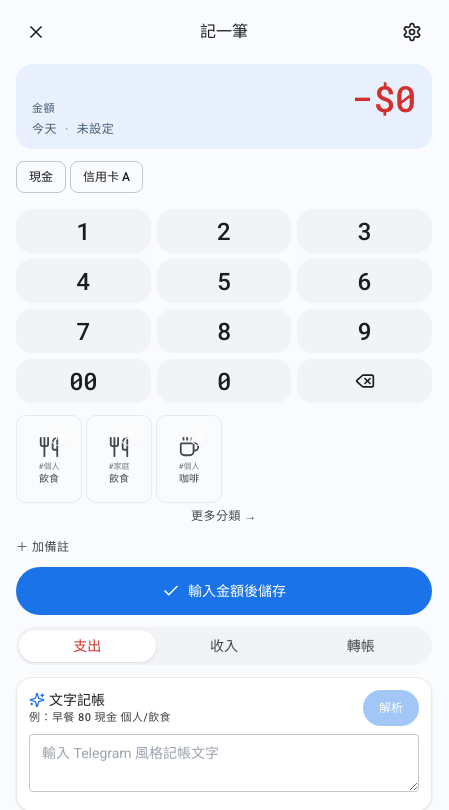
Test: QuickEntryPage (M3 v2.0) › blocks submit and toasts when amount is zero
The image size is (449, 810).
Expected: the button "個 #個人 飲食" is shown, [16,415,82,503]
Note: tap save without amount
Click the button "輸入金額後儲存": click(224, 591) [16,567,432,615]
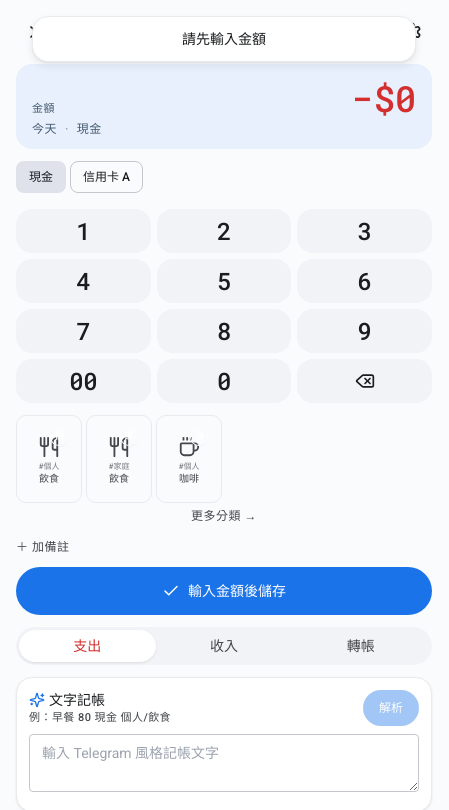
Result: the text "請先輸入金額" is shown at [182,29,266,49]
